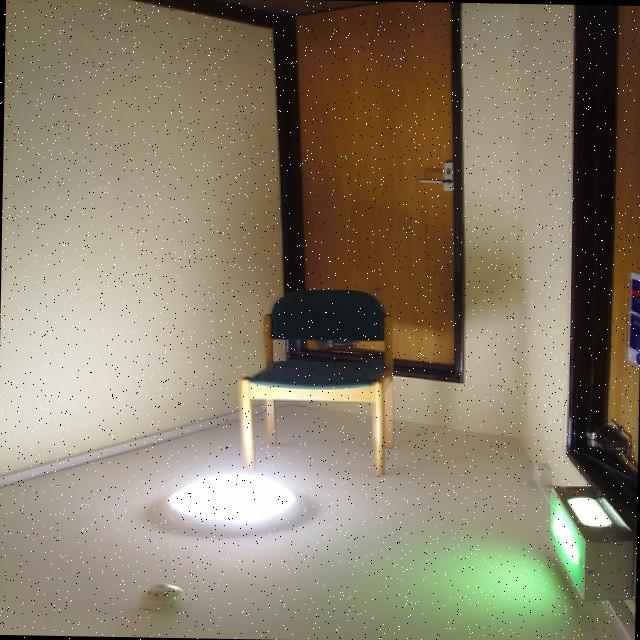Chair: (226, 271, 440, 478)
